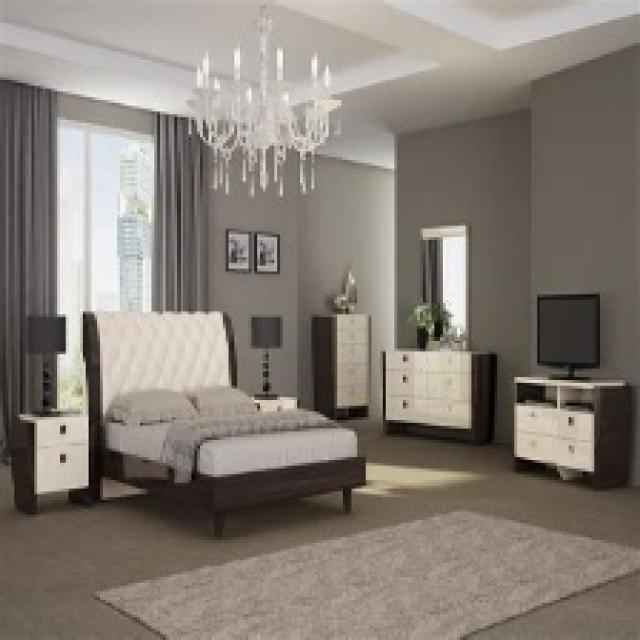Bed: (80, 309, 366, 537)
